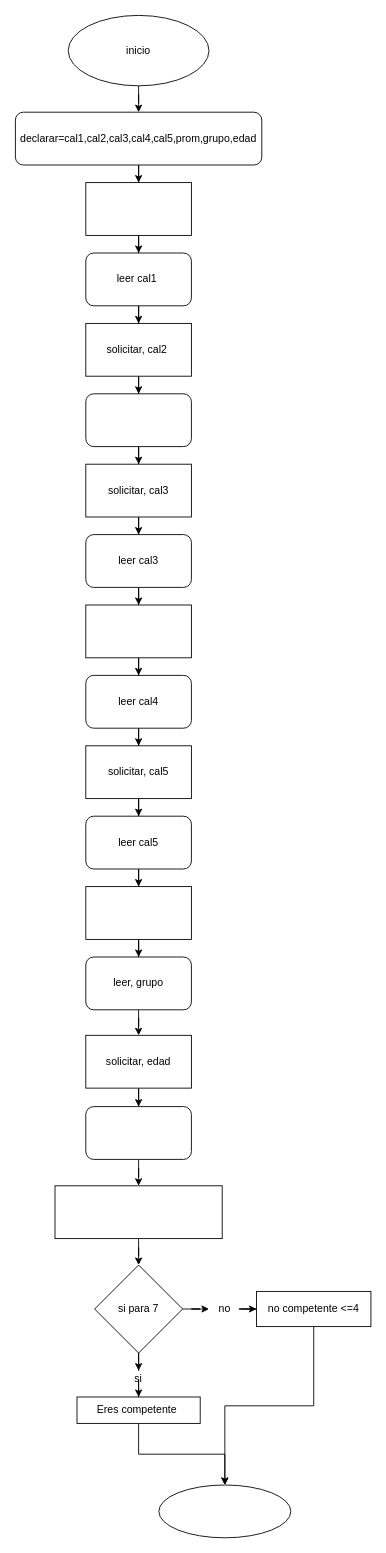
The diagram is 386 pixels wide and 1553 high, and some of its shapes have lost their labels. The shapes that lost their labels are listed below. From the top down, each one's centre as x and y in pixels, then its label:
(138,208): solicitar, cal1
(138,420): leer cal2
(138,631): solicitar, cal4
(138,912): solicitar, grupo
(138,1132): leer edad
(138,1212): prom=(cal1+cal2+cal3+cal4+cal5)/5
(224,1511): Fin
